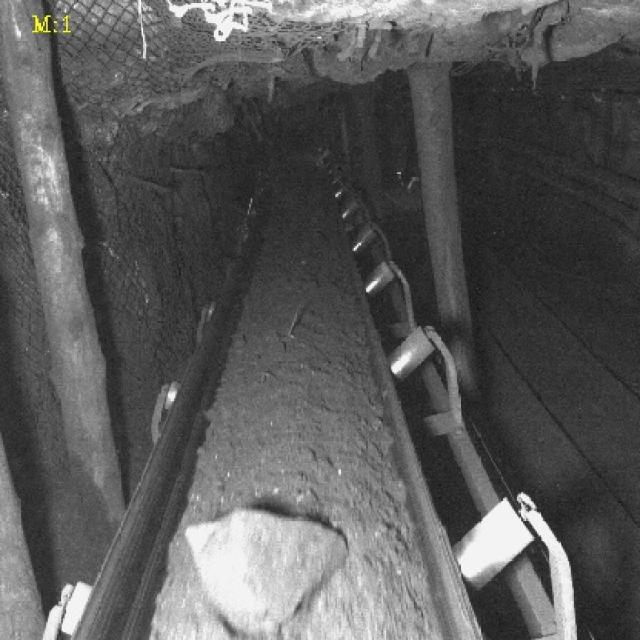large_sized_coal: (186, 502, 348, 630)
